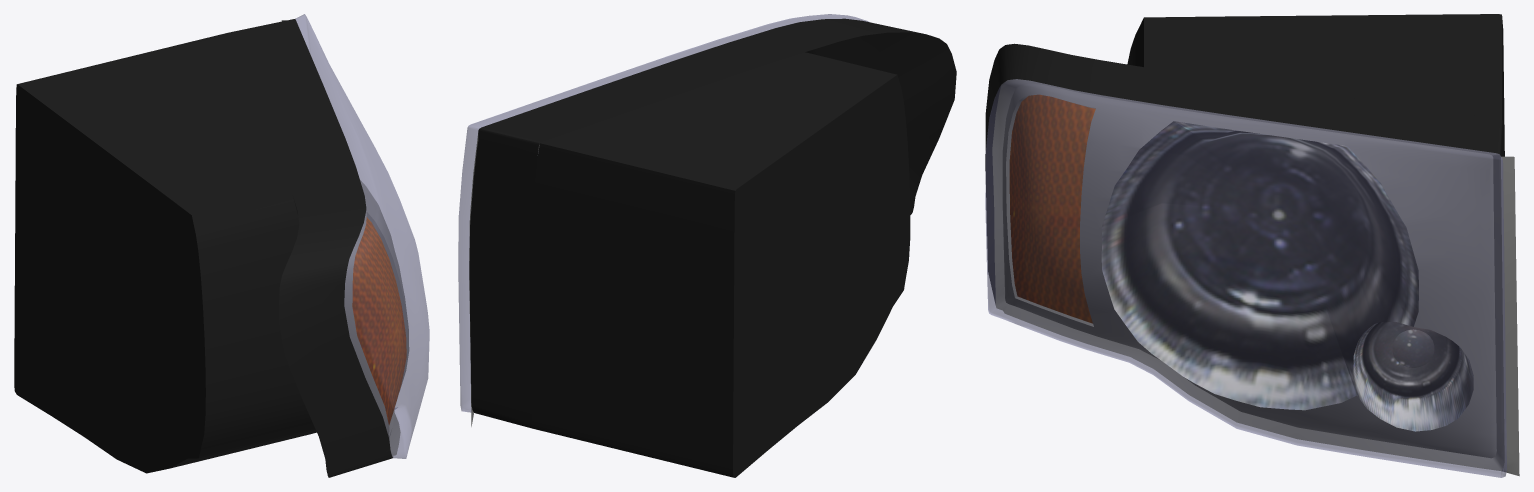
The picture shows the model from 3 angles, left to right: view 1: azimuth 30°, elevation 25°; view 2: azimuth 150°, elevation 25°; view 3: azimuth 270°, elevation 25°; orthographic projection. The views are drawn at different scales.
Parts seen in each view (by area): view 1: P712_061B_R_P712_061B_R_5_D, P712_061B_R_P712_061B_R_6_DTaSI, P712_061B_R_1_N_P712_061B_R, P712_061B_R_P712_061B_R_2_DaS; view 2: P712_061B_R_P712_061B_R_5_D, P712_061B_R_P712_061B_R_6_DTaSI; view 3: P712_061B_R_P712_061B_R_6_DTaSI, P712_061B_R_P712_061B_R_3_N, P712_061B_R_P712_061B_R_2_DaS, P712_061B_R_P712_061B_R_5_D, P712_061B_R_1_N_P712_061B_R, P712_061B_R_P712_061B_R_4_N.
Boxes of the visible parts, <box> form: P712_061B_R_P712_061B_R_5_D: <box>14,19,392,477</box>; P712_061B_R_P712_061B_R_6_DTaSI: <box>295,14,429,458</box>; P712_061B_R_1_N_P712_061B_R: <box>352,217,406,424</box>; P712_061B_R_P712_061B_R_2_DaS: <box>281,20,409,457</box>; P712_061B_R_P712_061B_R_5_D: <box>469,18,956,477</box>; P712_061B_R_P712_061B_R_6_DTaSI: <box>458,14,869,412</box>; P712_061B_R_P712_061B_R_6_DTaSI: <box>985,79,1506,477</box>; P712_061B_R_P712_061B_R_3_N: <box>1101,121,1418,410</box>; P712_061B_R_P712_061B_R_2_DaS: <box>992,79,1519,476</box>; P712_061B_R_P712_061B_R_5_D: <box>985,14,1504,303</box>; P712_061B_R_1_N_P712_061B_R: <box>1009,94,1095,323</box>; P712_061B_R_P712_061B_R_4_N: <box>1353,322,1473,431</box>.
Bounding box in the file's own units: 24.98 × 25.08 × 37.41.
